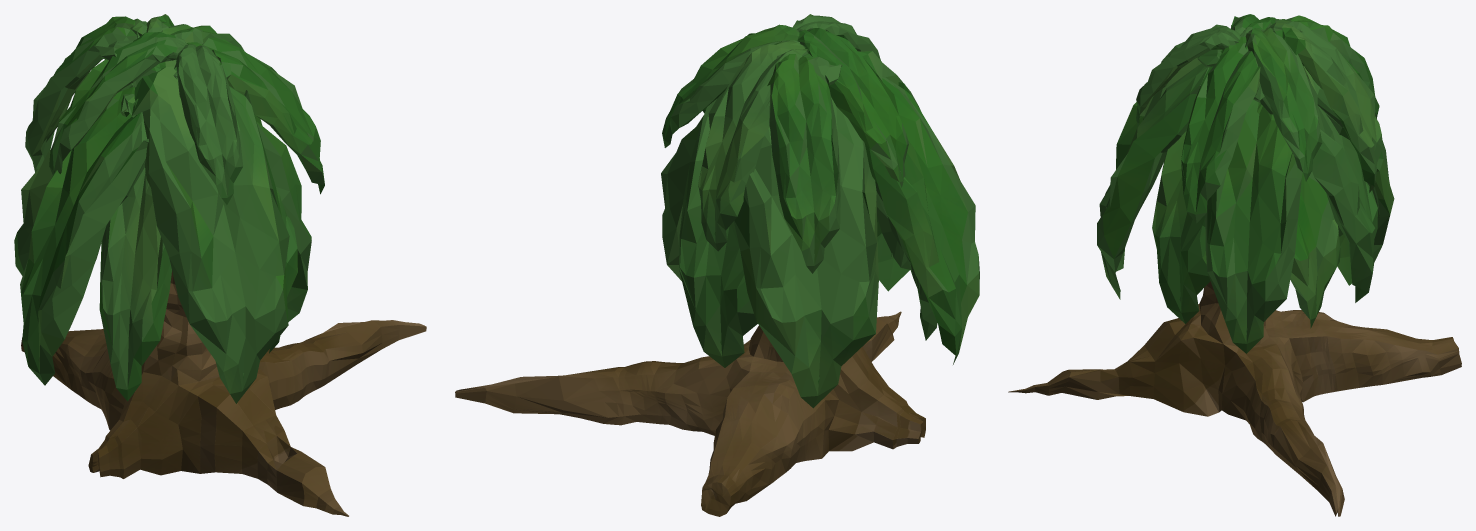
The model's file is ARVORE_3.fbx.
3 views of the same model, side by side, from view 1: azimuth 30°, elevation 25°; view 2: azimuth 150°, elevation 25°; view 3: azimuth 270°, elevation 25° (orthographic). The views are drawn at different scales.
Visible parts, largest first — view 1: Plane.001, Cube; view 2: Plane.001, Cube; view 3: Plane.001, Cube.
Part boxes in pixels (<box>): Plane.001: <box>14,14,324,403</box>; Cube: <box>21,271,426,516</box>; Plane.001: <box>661,14,979,408</box>; Cube: <box>455,311,925,516</box>; Plane.001: <box>1097,14,1394,353</box>; Cube: <box>1008,281,1461,516</box>.
Bounding box in the file's own units: 4274 × 3710 × 4135.
